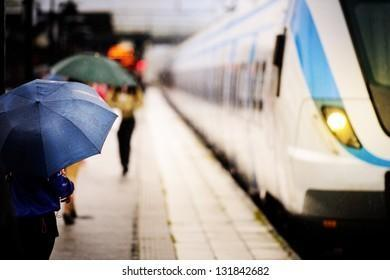Umbrella: (1, 73, 122, 190), (52, 48, 139, 90)
